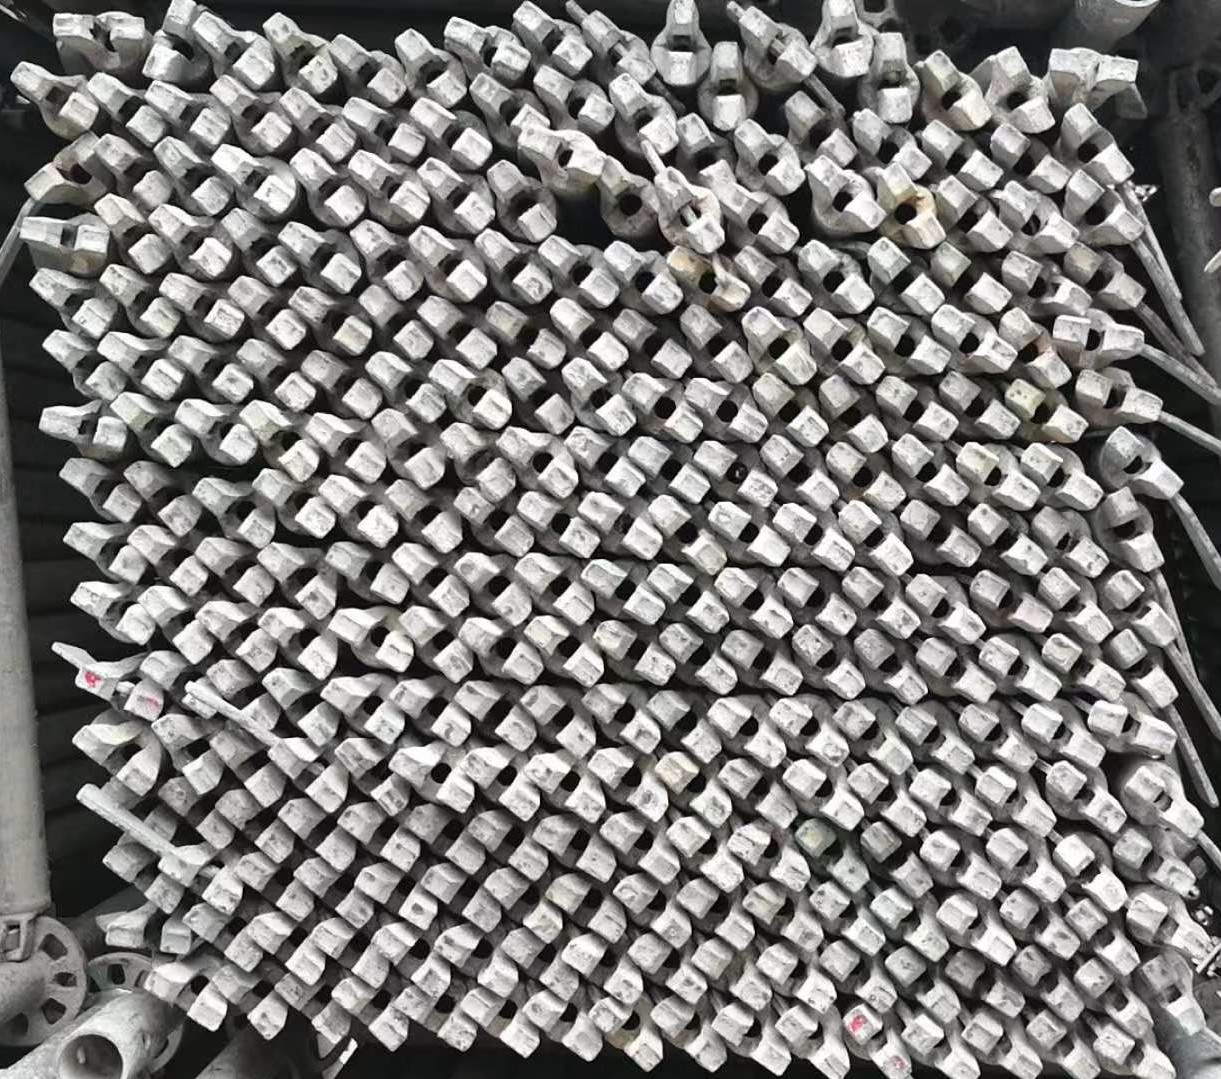NHsquare_steel: (1060, 102, 1136, 187), (70, 721, 154, 797), (9, 60, 98, 132), (392, 21, 464, 107), (801, 159, 881, 236), (197, 11, 276, 87), (1068, 170, 1144, 249), (795, 240, 874, 316), (331, 27, 406, 107), (1121, 766, 1201, 840), (603, 239, 681, 315), (905, 570, 985, 645), (369, 921, 448, 996), (217, 74, 291, 154), (268, 8, 338, 93), (441, 12, 530, 78), (607, 70, 676, 155), (211, 146, 297, 215), (782, 89, 859, 165), (150, 137, 228, 212), (1045, 761, 1124, 835), (1022, 440, 1103, 511), (924, 42, 990, 130), (1062, 241, 1146, 309), (459, 745, 535, 821), (806, 308, 883, 383), (834, 698, 909, 775), (349, 150, 427, 224), (88, 71, 163, 147), (582, 8, 657, 84), (409, 227, 484, 303), (658, 622, 734, 697), (1081, 959, 1154, 1037), (288, 286, 369, 356), (189, 476, 270, 546), (429, 358, 512, 427), (392, 985, 475, 1053), (238, 340, 313, 415), (741, 8, 817, 82), (284, 220, 360, 294), (849, 761, 922, 838), (933, 242, 1012, 313), (417, 160, 495, 232), (1001, 251, 1091, 313), (410, 98, 491, 168), (362, 351, 443, 420), (882, 164, 947, 250), (567, 355, 634, 437), (1110, 627, 1177, 709), (388, 747, 471, 813), (958, 1012, 1042, 1079), (1107, 425, 1182, 499), (116, 395, 192, 468), (648, 495, 721, 571), (591, 749, 667, 822), (290, 149, 362, 226), (911, 767, 988, 838), (935, 895, 1012, 967), (29, 269, 107, 340), (65, 581, 153, 644), (456, 682, 534, 753), (1013, 945, 1083, 1023), (974, 768, 1053, 837), (459, 618, 540, 686), (598, 814, 678, 883), (716, 186, 797, 254), (430, 927, 512, 995), (100, 265, 174, 338), (653, 753, 728, 826), (478, 230, 550, 306), (441, 422, 513, 498), (260, 542, 332, 618), (986, 832, 1062, 904), (515, 1, 592, 72), (743, 306, 814, 383), (920, 118, 999, 186), (160, 272, 240, 341), (582, 558, 662, 627), (98, 333, 183, 397), (176, 400, 257, 467), (514, 493, 596, 558), (527, 614, 601, 687), (153, 206, 228, 278), (783, 759, 858, 831), (587, 686, 663, 757), (874, 887, 945, 963), (895, 704, 972, 774), (244, 915, 321, 985), (731, 247, 809, 316), (816, 373, 884, 451), (465, 812, 543, 881), (489, 159, 554, 241), (647, 691, 720, 763), (271, 738, 343, 812), (485, 869, 559, 940), (462, 992, 535, 1063), (721, 631, 803, 696), (143, 969, 225, 1033), (871, 307, 946, 378), (750, 373, 825, 444), (761, 437, 836, 508), (255, 468, 330, 538), (522, 686, 597, 757), (631, 436, 707, 506), (624, 371, 701, 440), (921, 829, 998, 898), (711, 1006, 788, 1075), (1125, 898, 1208, 961), (595, 620, 673, 687), (998, 42, 1054, 135), (353, 221, 419, 301), (777, 568, 857, 633), (321, 676, 402, 741), (844, 564, 917, 636), (543, 233, 613, 308), (969, 504, 1044, 574), (770, 697, 845, 767), (1056, 836, 1126, 911), (334, 978, 404, 1053), (503, 355, 572, 431), (44, 331, 120, 400), (179, 904, 255, 973), (215, 965, 283, 1042), (516, 555, 593, 623), (224, 208, 291, 286), (300, 349, 378, 416), (248, 402, 315, 480), (1113, 832, 1196, 895), (770, 504, 849, 570), (338, 100, 422, 161), (517, 123, 605, 181), (701, 438, 774, 509), (320, 478, 393, 549), (793, 625, 864, 698), (499, 929, 572, 1000), (312, 413, 385, 483), (886, 947, 955, 1021), (898, 435, 967, 510), (843, 501, 912, 576), (387, 479, 455, 554), (128, 460, 197, 535), (613, 876, 688, 945), (656, 1001, 725, 1076), (528, 752, 604, 820), (102, 849, 178, 917), (677, 879, 753, 947), (583, 494, 661, 560), (170, 336, 248, 402), (1044, 633, 1122, 699), (142, 1, 202, 85), (377, 409, 441, 490), (57, 458, 138, 522), (979, 638, 1060, 702), (1002, 182, 1075, 252), (453, 552, 527, 621), (711, 698, 784, 767), (424, 867, 498, 935), (1005, 306, 1068, 387), (757, 945, 832, 1012), (848, 1004, 916, 1079), (57, 524, 143, 583), (538, 815, 615, 881), (859, 628, 924, 706), (562, 937, 641, 1001), (554, 300, 625, 371), (229, 279, 301, 349), (962, 444, 1035, 512), (455, 487, 528, 556), (691, 940, 764, 1009), (286, 86, 354, 160), (1108, 568, 1176, 642), (670, 815, 738, 889), (525, 996, 599, 1063), (746, 885, 821, 952), (144, 585, 209, 661), (293, 860, 369, 926), (219, 726, 279, 808), (1091, 700, 1177, 757), (147, 83, 226, 146), (534, 67, 614, 129), (155, 716, 218, 795), (45, 8, 146, 57), (421, 296, 491, 367), (263, 608, 333, 678), (503, 428, 575, 497), (721, 759, 793, 828), (811, 885, 882, 954), (629, 932, 701, 1001), (362, 286, 429, 359), (653, 564, 726, 632), (67, 666, 161, 718), (95, 133, 161, 207), (548, 874, 622, 940), (855, 110, 930, 176), (942, 373, 1017, 438), (338, 737, 403, 812), (281, 796, 347, 871), (946, 951, 1021, 1017), (403, 606, 468, 682), (100, 194, 160, 275), (913, 639, 990, 703), (1073, 369, 1162, 424), (799, 821, 869, 890), (821, 942, 892, 1010), (778, 1010, 849, 1079), (219, 792, 286, 863), (312, 920, 383, 987), (270, 667, 331, 746), (831, 441, 904, 507), (405, 806, 479, 872), (331, 611, 412, 672), (936, 308, 1011, 373), (904, 501, 979, 566), (1025, 701, 1100, 766), (487, 302, 563, 366), (161, 850, 238, 913), (992, 127, 1069, 190), (329, 544, 406, 606), (720, 567, 788, 637), (140, 650, 211, 717), (962, 703, 1033, 770), (1005, 379, 1085, 440), (399, 542, 464, 616), (339, 806, 414, 870), (1073, 898, 1135, 975), (26, 135, 97, 202), (158, 779, 225, 850), (595, 999, 662, 1070), (1044, 569, 1110, 641), (1003, 894, 1075, 959), (739, 123, 803, 196), (711, 503, 784, 567), (864, 823, 926, 898), (1144, 957, 1202, 1037), (976, 572, 1052, 633), (730, 828, 807, 888), (279, 972, 342, 1046), (688, 378, 763, 440), (359, 869, 435, 929), (572, 427, 640, 495), (200, 603, 270, 669), (673, 247, 744, 311), (1036, 509, 1107, 573), (879, 378, 955, 437), (1027, 1017, 1099, 1079), (235, 859, 309, 920), (905, 1015, 975, 1079), (468, 75, 548, 130), (395, 682, 467, 744), (684, 306, 744, 380), (198, 539, 267, 603), (131, 530, 202, 592), (1107, 490, 1160, 573), (1096, 1027, 1179, 1079), (674, 109, 729, 187), (620, 311, 687, 375), (601, 160, 654, 240), (34, 406, 126, 452), (875, 26, 916, 127), (705, 33, 747, 131), (17, 216, 107, 259), (214, 663, 273, 728), (821, 1, 870, 79), (661, 1, 703, 87), (103, 917, 192, 958), (1054, 317, 1145, 355)
